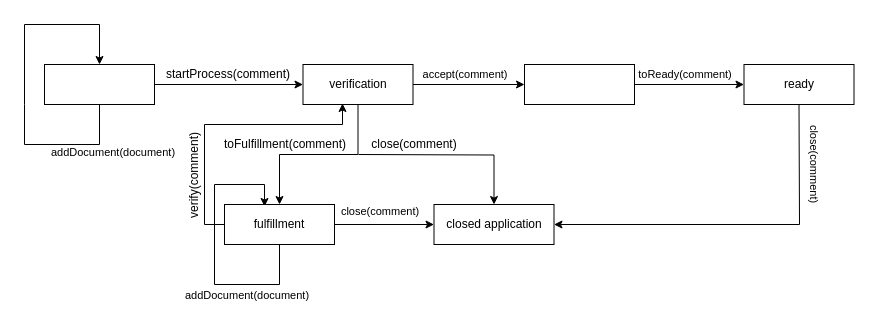
Some shapes in this 872 by 323 pixel diagram are drawn without their labels. The box of each missing label's shape, as (x1, y1, x2, y2) in pixels:
new application: (44, 64, 154, 104)
printing: (524, 64, 634, 104)
